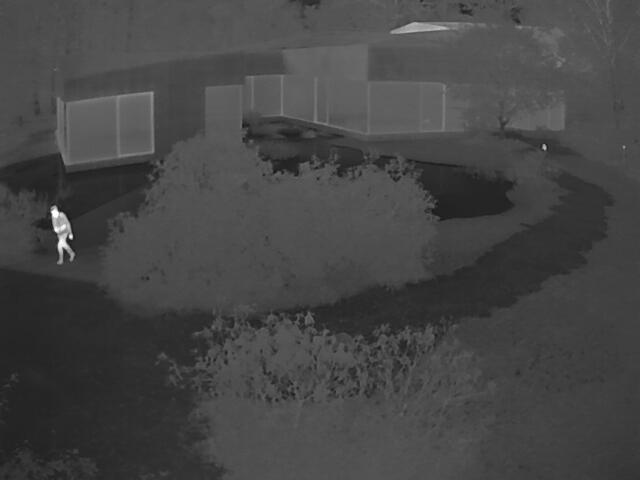person: (46, 204, 75, 263)
